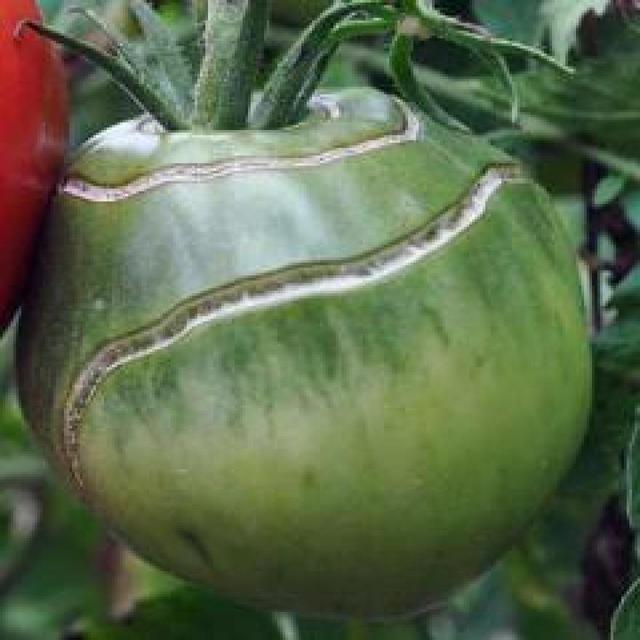Cracking Fruit: (159, 78, 330, 244)
